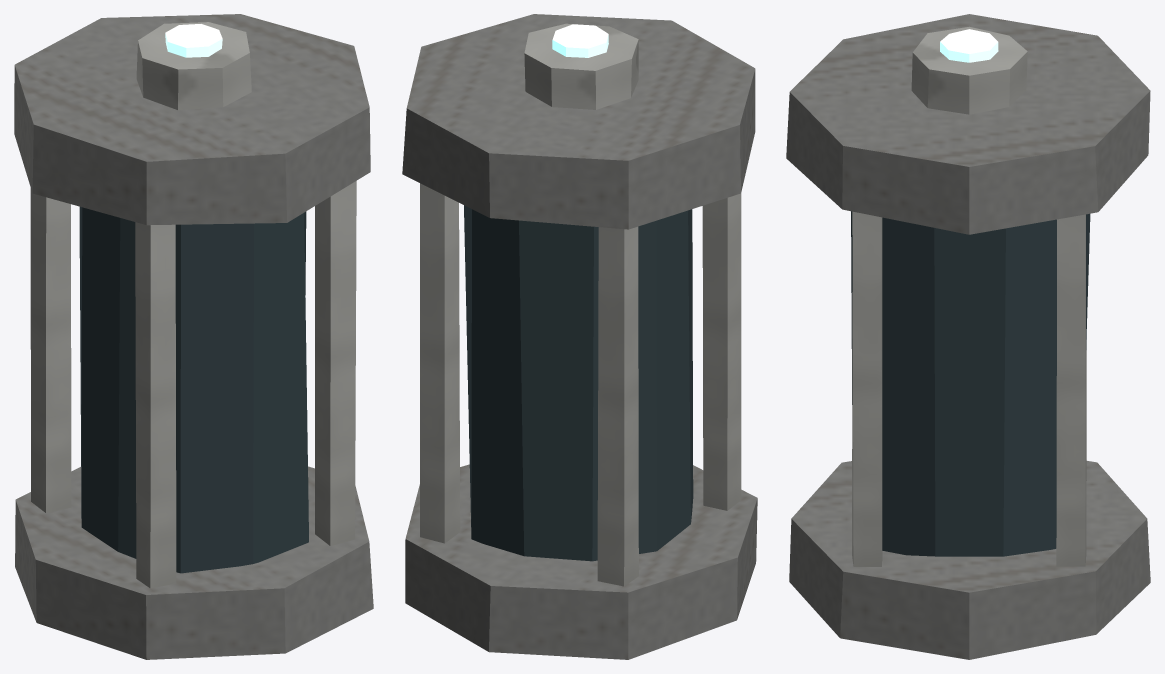
File: beacon_part_2.glb
The picture shows the model from 3 angles, left to right: view 1: azimuth 30°, elevation 25°; view 2: azimuth 150°, elevation 25°; view 3: azimuth 270°, elevation 25°; orthographic projection.
Visible parts, largest first — view 1: BeaconPart2; view 2: BeaconPart2; view 3: BeaconPart2.
Part boxes in pixels (box(x1,y1,x2,y2)): BeaconPart2: box(14, 14, 373, 659); BeaconPart2: box(402, 14, 757, 659); BeaconPart2: box(786, 14, 1150, 659).
Size of the model in its own units: 0.2829 by 0.4637 by 0.2826.
4 materials, 2 textured.
